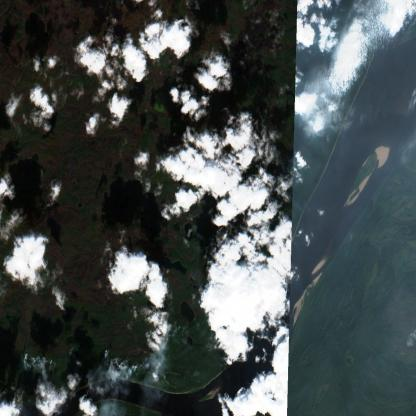fire: (100, 321, 183, 383), (178, 211, 249, 252), (20, 340, 77, 374), (259, 148, 293, 192)
